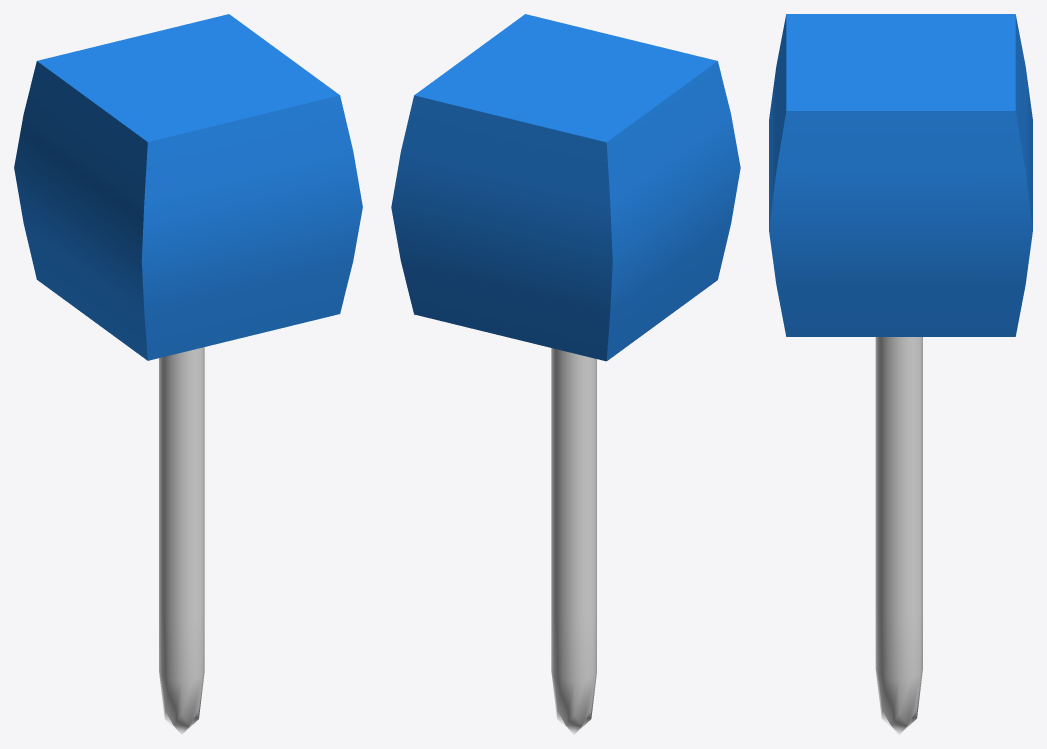
Rendered from Quadrat_Lolly.fbx.
The picture shows the model from 3 angles, left to right: view 1: azimuth 30°, elevation 25°; view 2: azimuth 150°, elevation 25°; view 3: azimuth 270°, elevation 25°; orthographic projection. The views are drawn at different scales.
Parts seen in each view (by area): view 1: Box001, Cylinder003; view 2: Box001, Cylinder003; view 3: Box001, Cylinder003.
Part boxes in pixels (left/top/right/bottom): Box001: left=14, top=14, right=362, bottom=360; Cylinder003: left=159, top=347, right=204, bottom=734; Box001: left=391, top=14, right=740, bottom=361; Cylinder003: left=551, top=348, right=596, bottom=734; Box001: left=769, top=14, right=1032, bottom=336; Cylinder003: left=875, top=337, right=922, bottom=734.
Size of the model in its own units: 112 by 318 by 112.
